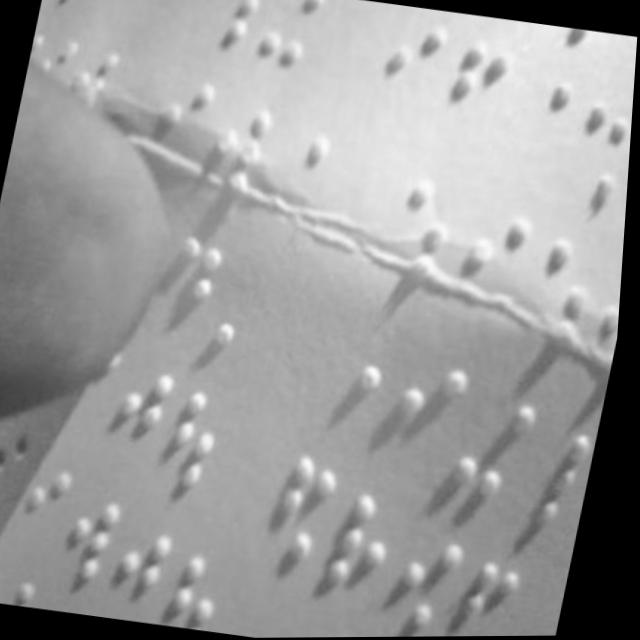braiile: (389, 360, 474, 482), (323, 485, 408, 607), (452, 388, 542, 501), (265, 451, 346, 576), (439, 40, 518, 159), (372, 20, 450, 137), (520, 418, 602, 526), (393, 529, 473, 638), (157, 389, 236, 496), (505, 74, 579, 188), (108, 364, 182, 475), (110, 521, 186, 625), (322, 328, 397, 432), (55, 495, 131, 597), (568, 101, 634, 210), (451, 553, 532, 637), (251, 0, 328, 86), (168, 547, 242, 633)
